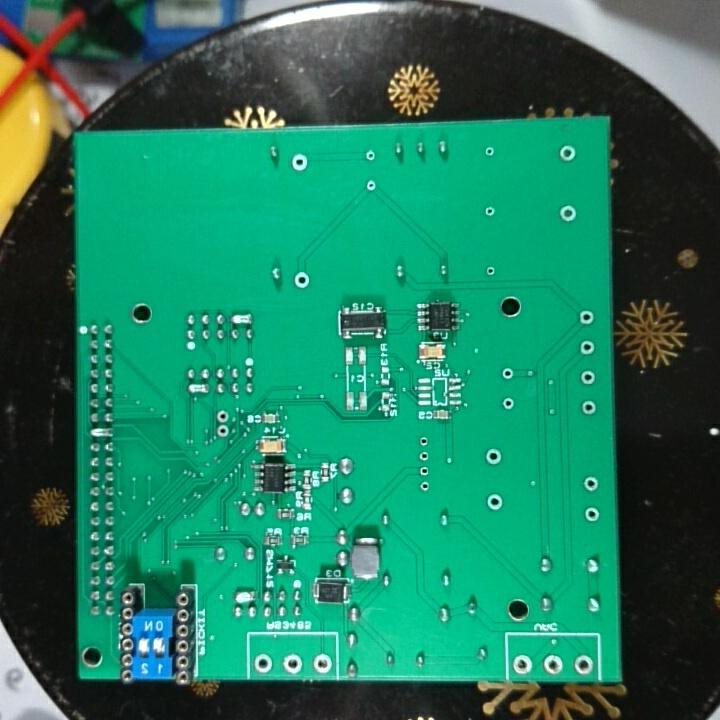F: (571, 652, 595, 678), (253, 653, 279, 675), (541, 653, 564, 677), (511, 652, 534, 676), (281, 652, 305, 675), (310, 652, 333, 675), (576, 366, 599, 388), (556, 144, 580, 165), (576, 308, 597, 331), (582, 503, 603, 526), (556, 204, 578, 225), (481, 446, 504, 466), (290, 271, 312, 291), (576, 336, 596, 358), (290, 152, 309, 173), (484, 492, 505, 511), (579, 398, 599, 416), (581, 475, 601, 493), (213, 408, 232, 426), (500, 393, 517, 412), (499, 365, 516, 382), (416, 478, 433, 495), (483, 205, 499, 222), (482, 263, 499, 279), (364, 176, 379, 193), (214, 425, 231, 440), (417, 463, 433, 478), (364, 147, 377, 165), (417, 450, 433, 463), (416, 436, 431, 449), (482, 145, 495, 158)
P: (230, 587, 258, 605), (229, 309, 256, 326), (88, 426, 115, 442), (185, 380, 210, 397)
